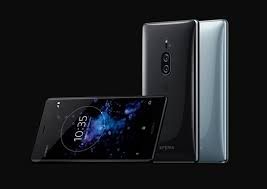sony: (28, 91, 168, 166)
